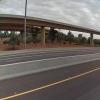Bridge: (2, 7, 95, 45)
